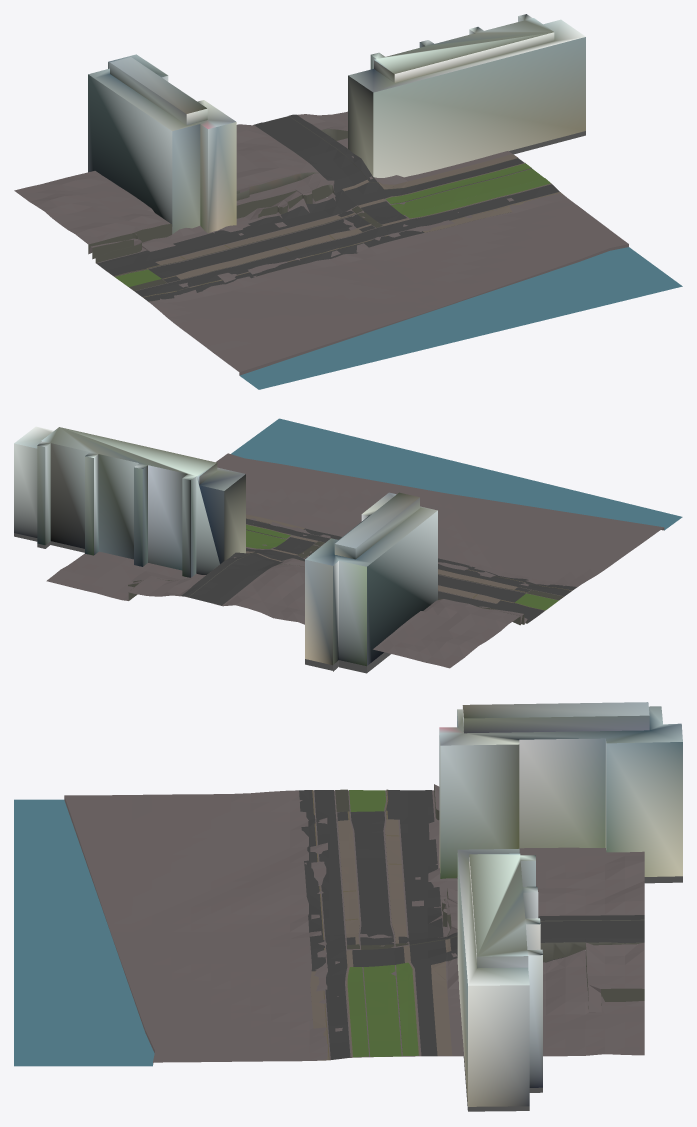
3 views of the same model, one above another, from view 1: azimuth 30°, elevation 25°; view 2: azimuth 150°, elevation 25°; view 3: azimuth 270°, elevation 25° (orthographic). The views are drawn at different scales.
Visible parts, largest first — view 1: c_p03_m08, append:c_p03_m08; view 2: c_p03_m08, append:c_p03_m08; view 3: c_p03_m08, append:c_p03_m08.
Boxes of the visible parts, x1,y1,x2,y2 form: c_p03_m08: (88, 14, 682, 389); append:c_p03_m08: (14, 111, 588, 315); c_p03_m08: (14, 418, 682, 673); append:c_p03_m08: (46, 494, 593, 668); c_p03_m08: (14, 702, 682, 1111); append:c_p03_m08: (255, 784, 644, 1061).
Bounding box in the file's own units: 152 × 35.61 × 136.
